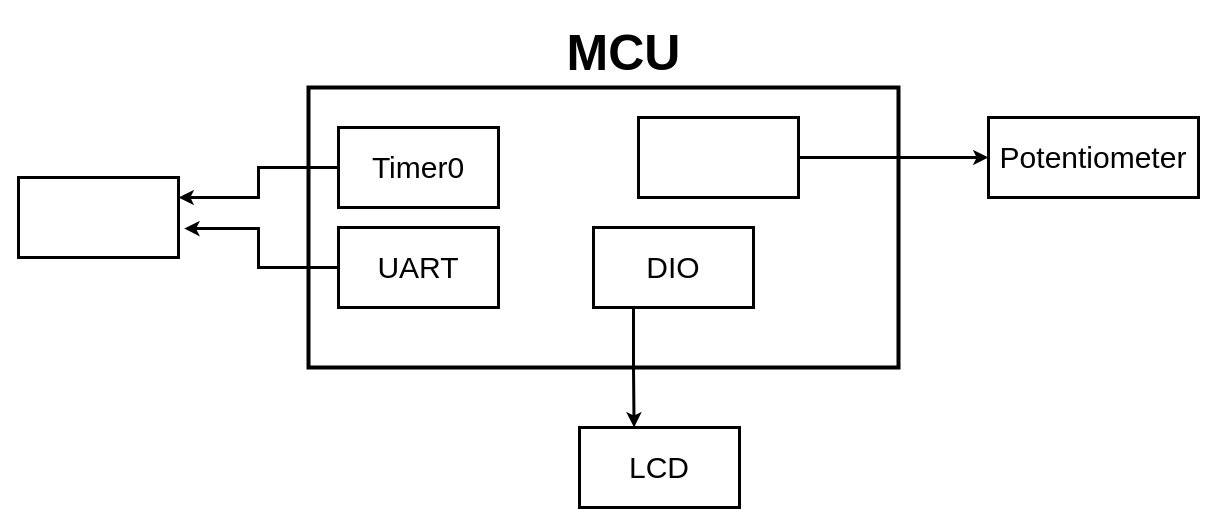
Some shapes in this 1217 by 526 pixel diagram are drawn without their labels. Here are the shapes that lost their labels. From the top down, the centre of each, then its label:
the point at 718,157: ADC
the point at 98,217: ESP8266
